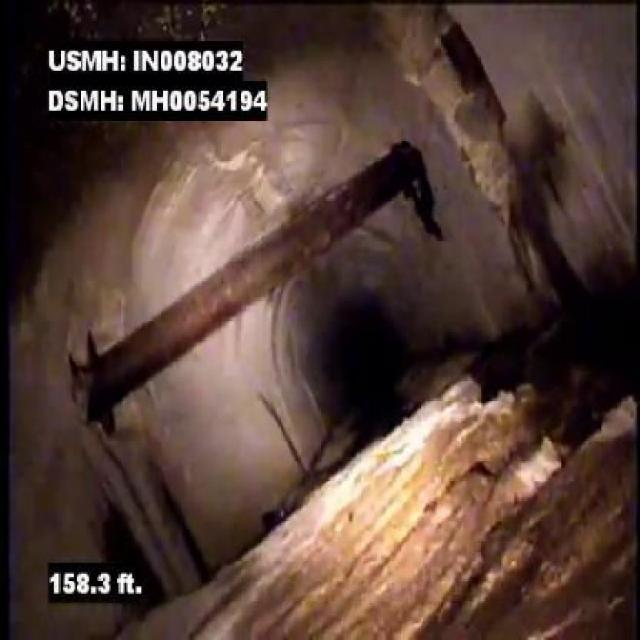Utility intrusion: (68, 232, 269, 400), (274, 137, 434, 294)
